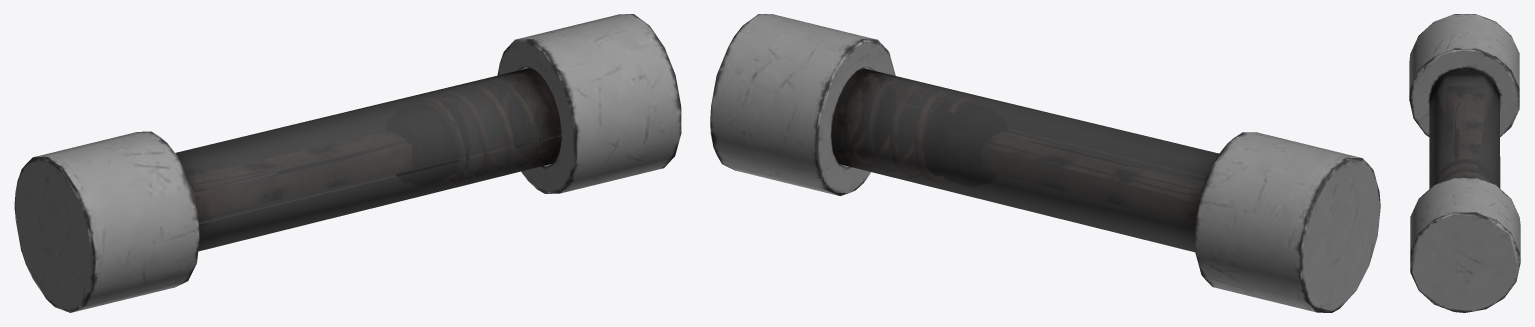
The model's file is fuse.glb.
3 renders of one model, left to right at view 1: azimuth 30°, elevation 25°; view 2: azimuth 150°, elevation 25°; view 3: azimuth 270°, elevation 25°, orthographic. The views are drawn at different scales.
Parts seen in each view (by area): view 1: Cylinder_FuseCasing_0, Cylinder_FuseGlass_0; view 2: Cylinder_FuseCasing_0, Cylinder_FuseGlass_0; view 3: Cylinder_FuseCasing_0, Cylinder_FuseGlass_0.
Boxes of the visible parts, <box> form: Cylinder_FuseCasing_0: <box>14,14,681,312</box>; Cylinder_FuseGlass_0: <box>175,68,561,251</box>; Cylinder_FuseCasing_0: <box>710,14,1380,312</box>; Cylinder_FuseGlass_0: <box>831,68,1218,252</box>; Cylinder_FuseCasing_0: <box>1409,14,1520,312</box>; Cylinder_FuseGlass_0: <box>1429,68,1500,188</box>.
Size of the model in its own units: 0.1 by 0.0234 by 0.0236.
2 materials, 2 textured.
